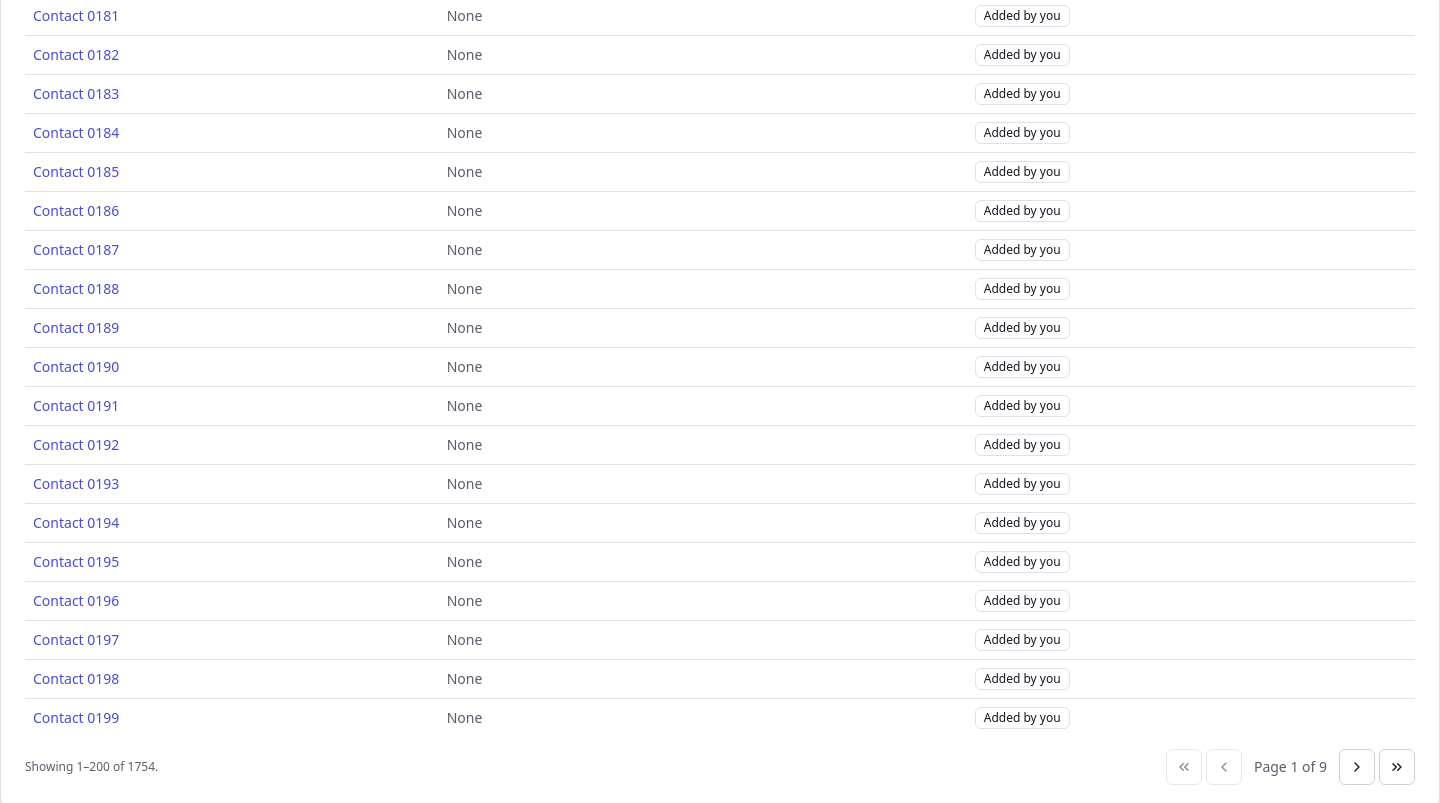
Test: ContactList pagination (issue #207) › a search resets to the first page, not wherever paging left off
The width and height of the screenshot is (1440, 803).
(page scrolled)
Expected: the text "Showing 1–200 of 1754." is shown, [25,758,158,774]
Step 1. Click the button named "Last page" → {"x": 1397, "y": 766}, box [1379,748,1415,784]
(page scrolled)
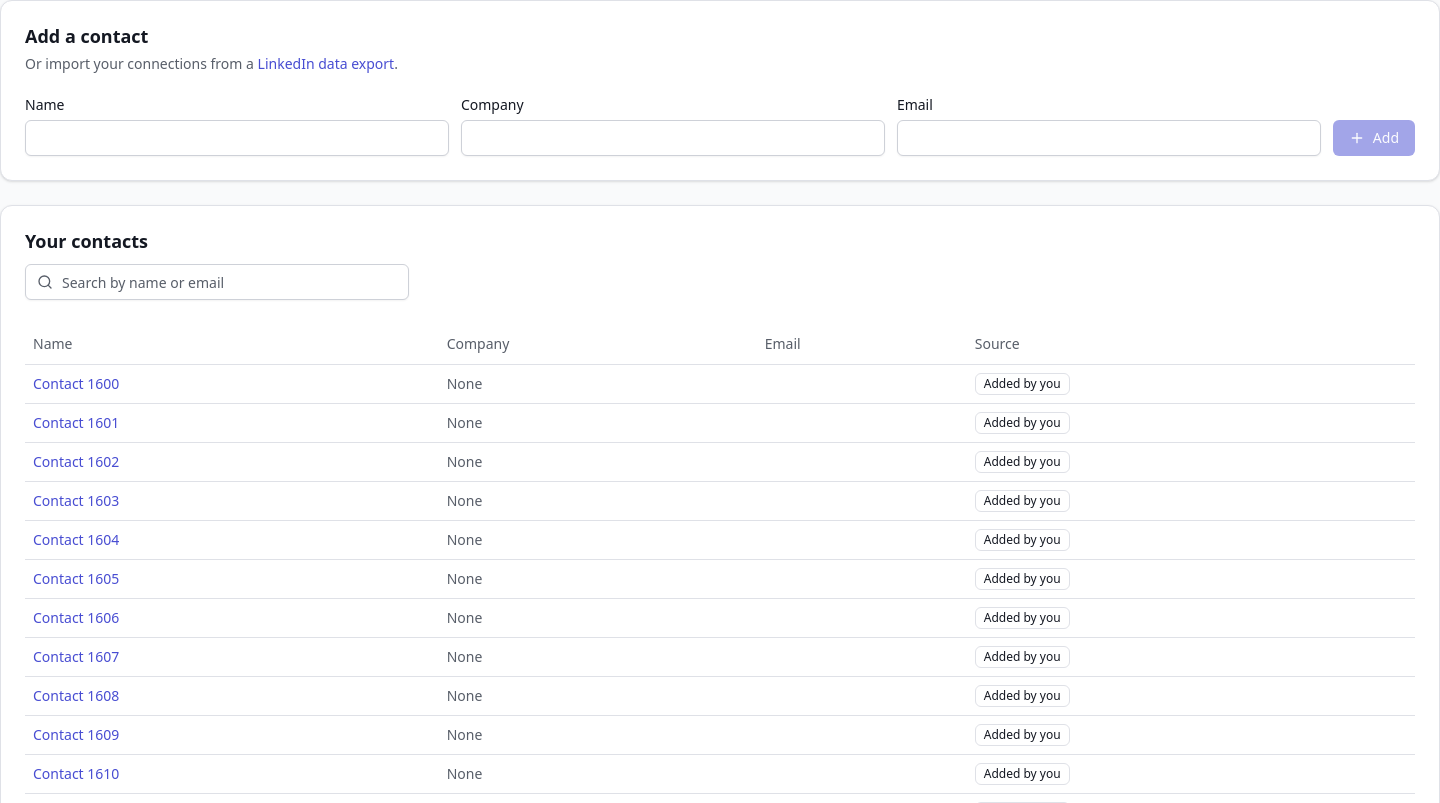
Step 2. Type "Contact 0005" into the field named "Search contacts" → {"x": 217, "y": 282}, box [25,264,409,300]
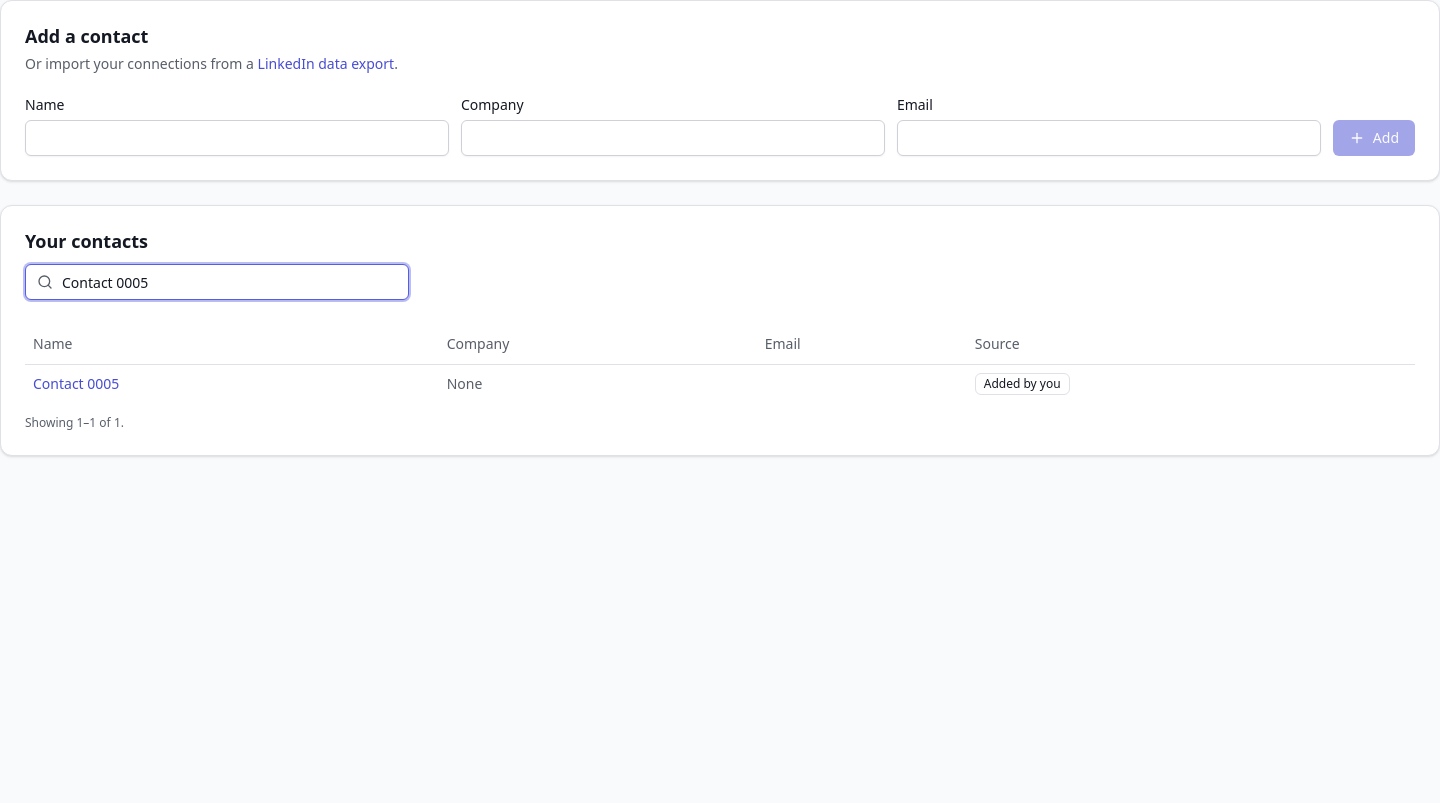
Expected: the text "Showing 1–1 of 1." is shown, [25,414,124,430]
Expected: the row "Contact 0005 None Added by you" is shown, [25,364,1415,402]
Expected: the link "Contact 0005" is shown, [33,374,119,392]
